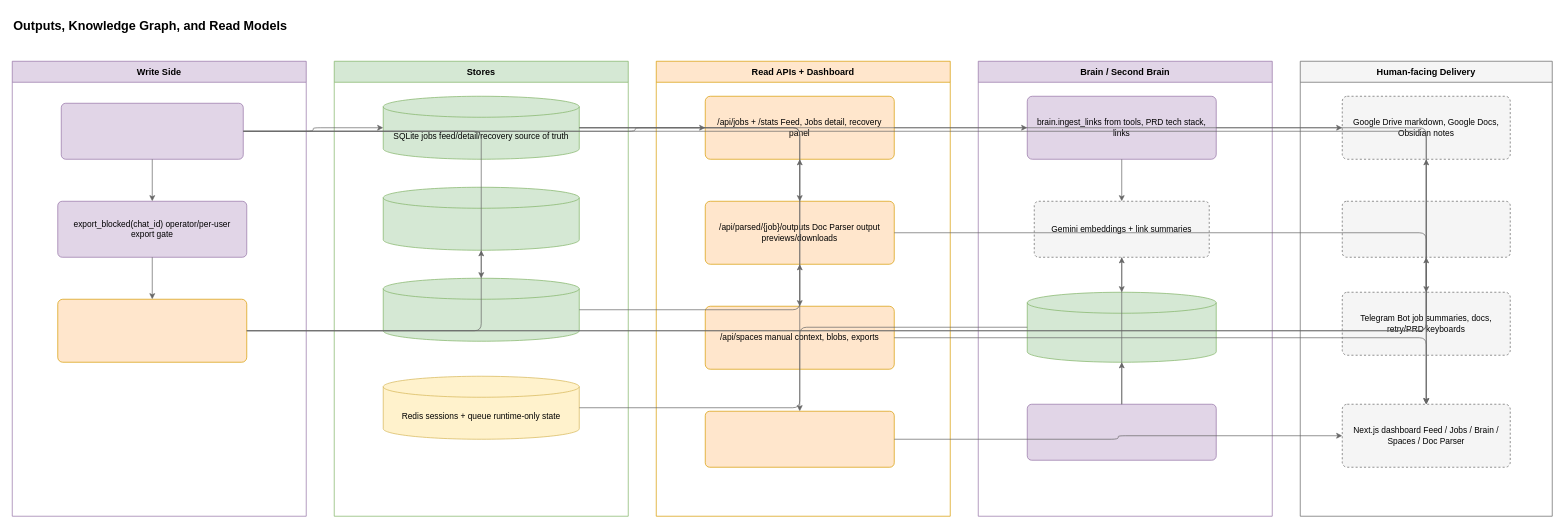
Some shapes in this 1565 by 529 pixel diagram are drawn without their labels. Each missing label, with the box of its shape:
/api/brain link graph for dashboard: (705, 411, 894, 467)
APScheduler refresh_stale_links Sun/Wed 09:00: (1027, 404, 1216, 460)
Brain SQLite links DB url, seen_count, embedding, drive_file_id: (1027, 292, 1216, 362)
Drive/Sheets clients user folder/sheet fallback to configured IDs: (57, 299, 247, 362)
GCS parsed outputs PDF + text blobs: (383, 278, 579, 341)
Google Sheets fixed tabs per content type: (1342, 201, 1510, 257)
Processors complete job status + derived artifacts: (61, 103, 243, 159)
SQLite encrypted Google tokens OAuth state + refresh token: (383, 187, 579, 250)
